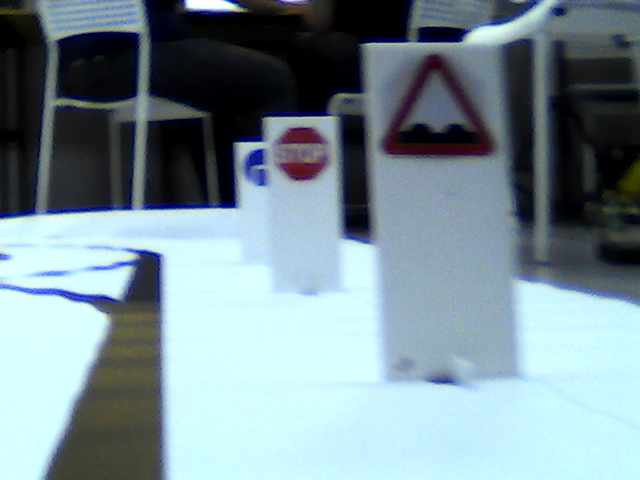Nerov: (378, 51, 497, 165)
Stop: (270, 126, 331, 180)
